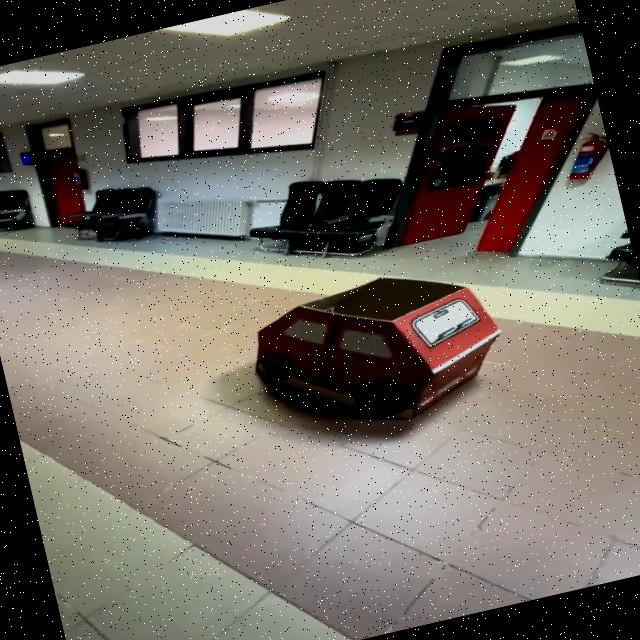red_car: (157, 227, 545, 480)
